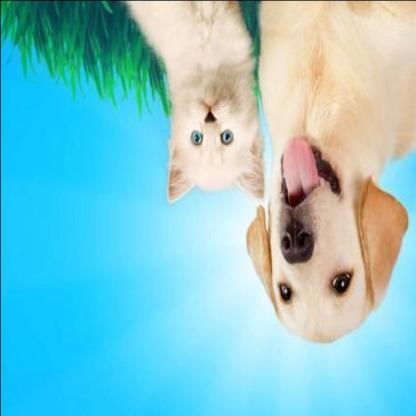cat: (141, 0, 261, 205)
dog: (253, 0, 416, 362)
